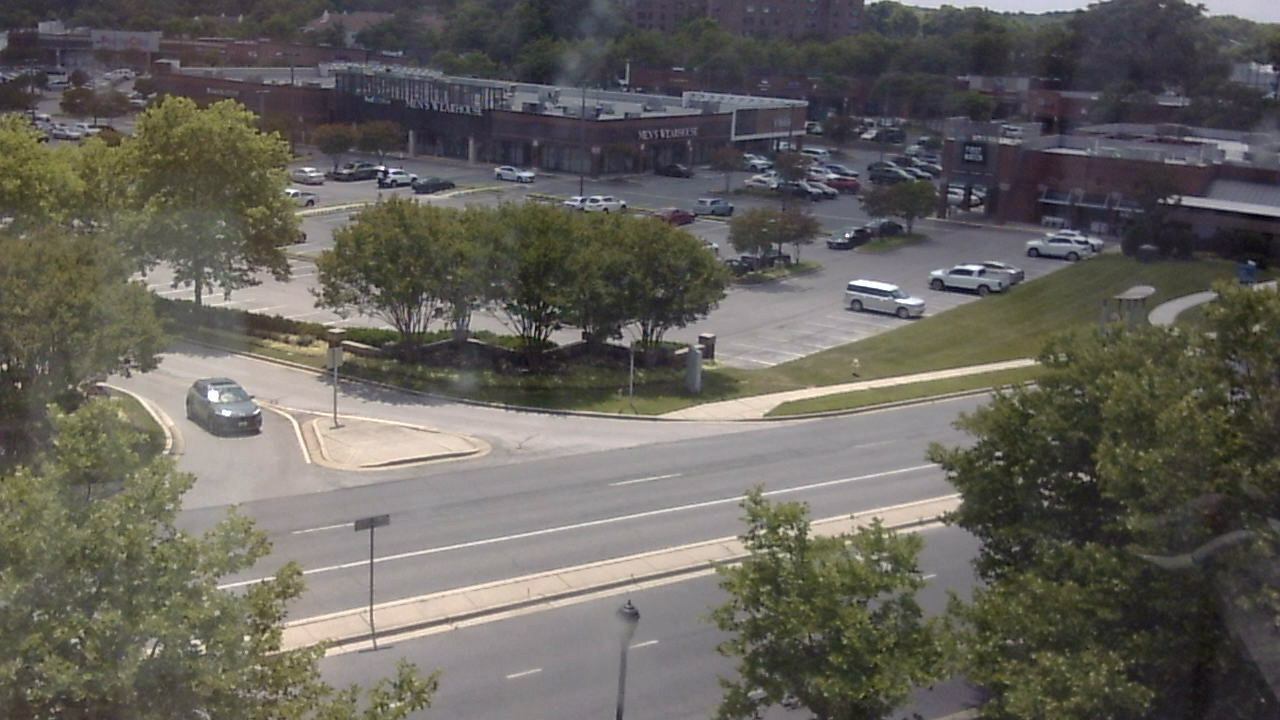Car: (183, 366, 274, 456)
